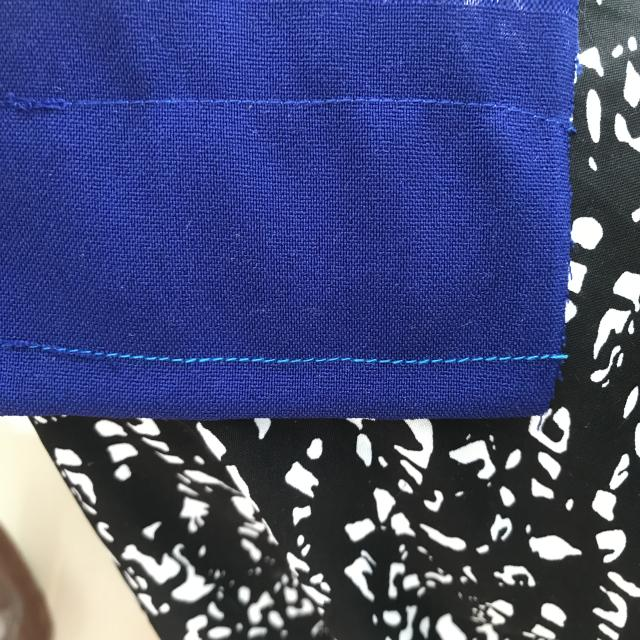good: (163, 351, 367, 372), (61, 334, 147, 371), (402, 353, 508, 378)
